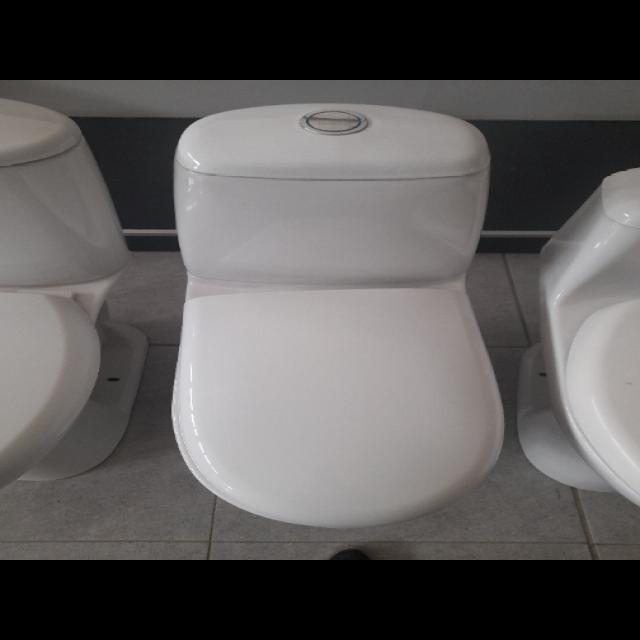toilet: (169, 101, 505, 528), (0, 96, 146, 487), (514, 166, 639, 506)
